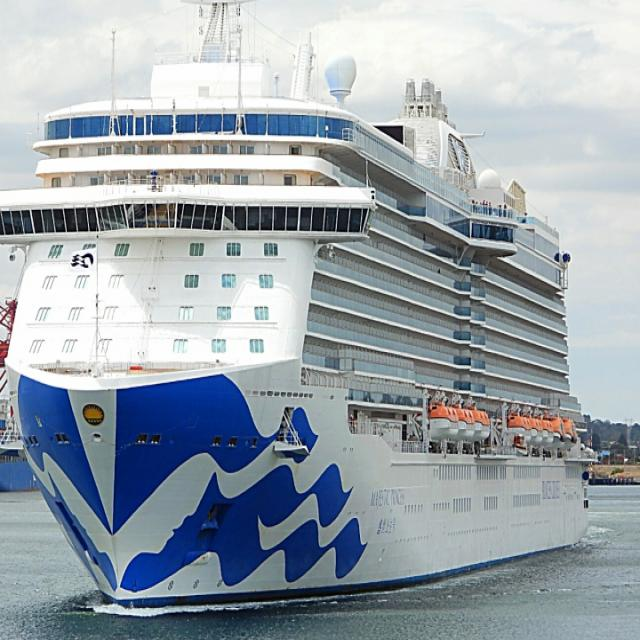cruises: (1, 1, 601, 626)
